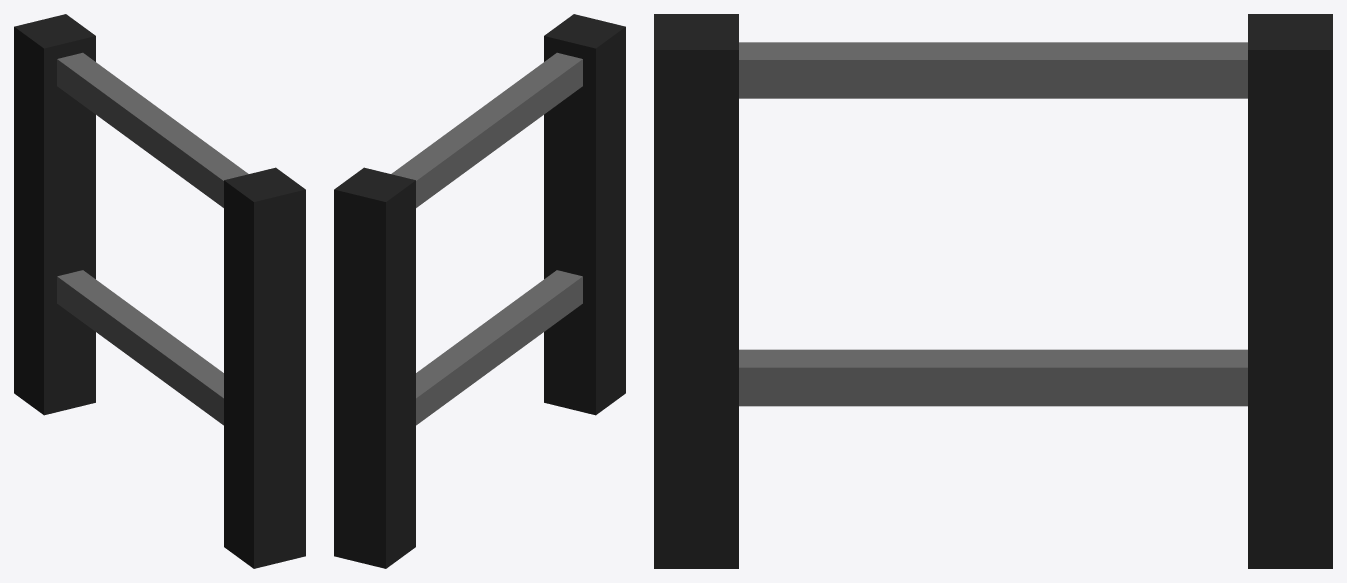
The model's file is pregrada.obj.
The picture shows the model from 3 angles, left to right: view 1: azimuth 30°, elevation 25°; view 2: azimuth 150°, elevation 25°; view 3: azimuth 270°, elevation 25°; orthographic projection. The views are drawn at different scales.
Size of the model in its own units: 0.4 by 2.7 by 3.2.
1 material, 1 textured.
